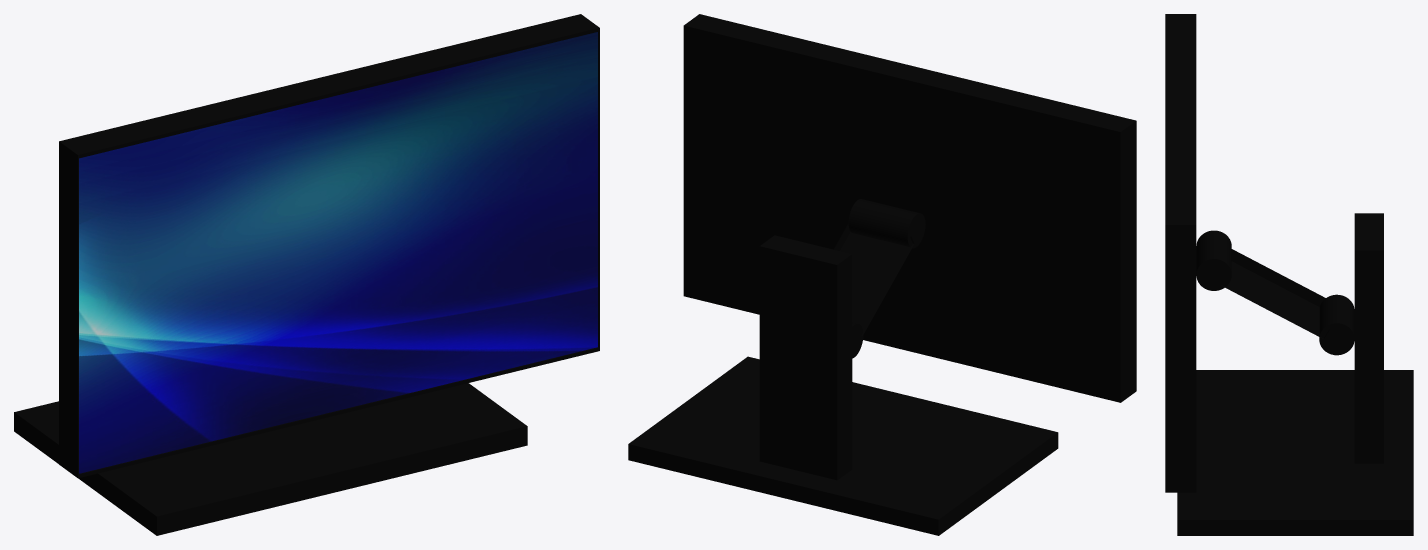
Rendered from monitor.glb.
3 renders of one model, left to right at view 1: azimuth 30°, elevation 25°; view 2: azimuth 150°, elevation 25°; view 3: azimuth 270°, elevation 25°, orthographic. The views are drawn at different scales.
Parts seen in each view (by area): view 1: Cube; view 2: Cube; view 3: Cube.
Boxes of the visible parts, x1,y1,x2,y2 form: Cube: [14, 14, 599, 535]; Cube: [628, 14, 1136, 535]; Cube: [1165, 14, 1413, 535].
Size of the model in its own units: 8.45 by 6.3 by 4.2.
Materials: 2 (1 with a texture image).
